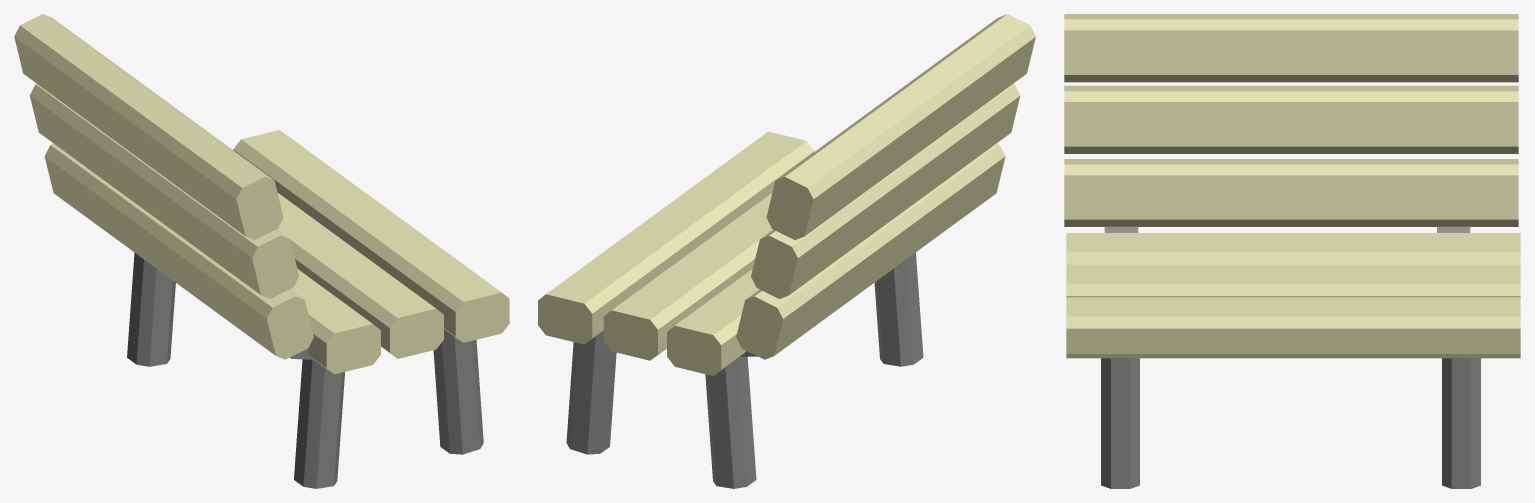
Rendered from Bank.fbx.
3 renders of one model, left to right at view 1: azimuth 30°, elevation 25°; view 2: azimuth 150°, elevation 25°; view 3: azimuth 270°, elevation 25°, orthographic. The views are drawn at different scales.
Visible parts, largest first — view 1: pCube13, pCube1, pCube14, pCube15, pCube2, pCube11, pCube9, pCube3, pCube12; view 2: pCube13, pCube1, pCube14, pCube15, pCube2, pCube12, pCube3, pCube10, pCube11; view 3: pCube13, pCube15, pCube14, pCube1, pCube2, pCube3, pCube10, pCube9.
Part boxes in pixels (x1,y1,x2,y2): pCube13: (14, 14, 283, 239); pCube1: (233, 130, 509, 342); pCube14: (44, 143, 313, 359); pCube15: (29, 83, 298, 298); pCube2: (277, 193, 443, 358); pCube11: (294, 359, 344, 488); pCube9: (433, 329, 483, 454); pCube3: (290, 269, 380, 374); pCube12: (127, 252, 175, 366); pCube13: (766, 14, 1035, 239); pCube1: (538, 131, 814, 344); pCube14: (736, 143, 1005, 359); pCube15: (751, 83, 1020, 298); pCube2: (603, 193, 772, 360); pCube12: (705, 357, 756, 488); pCube3: (667, 269, 759, 375); pCube10: (566, 331, 616, 454); pCube11: (874, 252, 923, 366); pCube13: (1064, 14, 1518, 82); pCube15: (1064, 85, 1518, 153); pCube14: (1064, 159, 1518, 226); pCube1: (1066, 297, 1520, 358); pCube2: (1066, 264, 1520, 297); pCube3: (1066, 233, 1520, 264); pCube10: (1442, 358, 1480, 488); pCube9: (1101, 358, 1139, 488).
Bounding box in the file's own units: 3.13 × 3.76 × 4.42.
